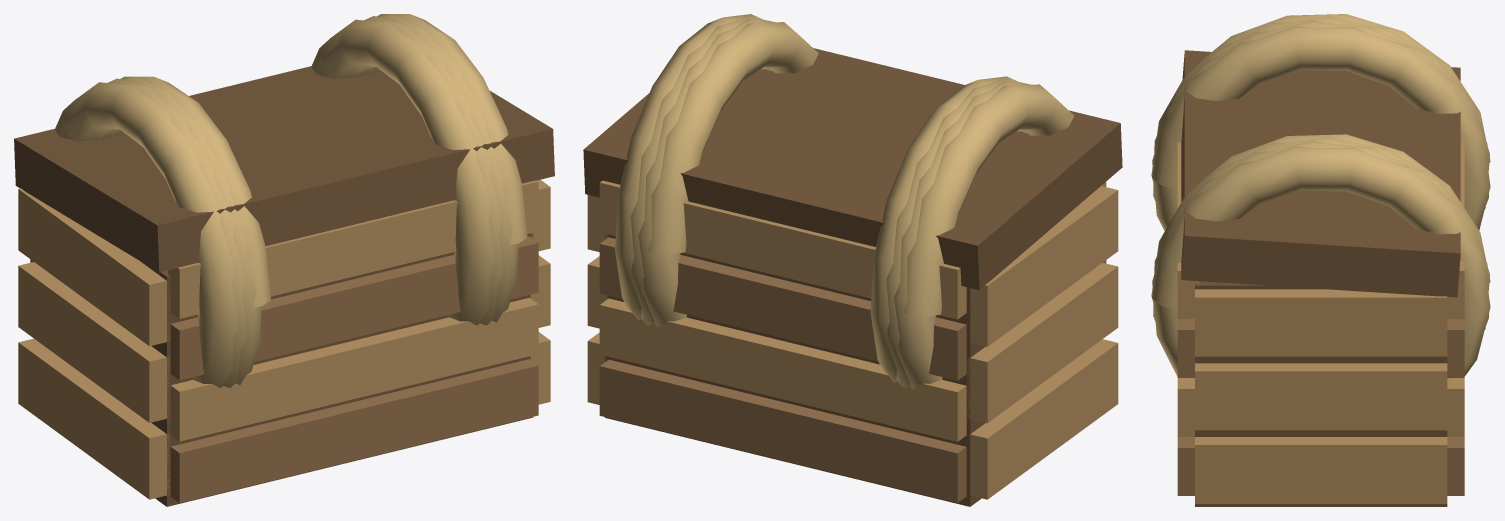
File: storage_box.glb
The picture shows the model from 3 angles, left to right: view 1: azimuth 30°, elevation 25°; view 2: azimuth 150°, elevation 25°; view 3: azimuth 270°, elevation 25°; orthographic projection. The views are drawn at different scales.
Parts seen in each view (by area): view 1: lid, box_rope_left, box_rope_right, front_plank_0, front_plank_1, front_plank_2, front_plank_3, left_plank_1, left_plank_0, left_plank_2, box_core, right_plank_1 (+2 smaller); view 2: lid, box_rope_right, box_rope_left, back_plank_0, back_plank_1, back_plank_2, back_plank_3, left_plank_1, left_plank_0, left_plank_2, box_core, right_plank_1 (+2 smaller); view 3: lid, box_rope_right, box_rope_left, right_plank_1, right_plank_0, right_plank_2, box_core, front_plank_3, back_plank_0, back_plank_1, front_plank_0, front_plank_1 (+3 smaller).
Part boxes in pixels (x1=…): lid: x1=14, y1=66, x2=554, y2=272; box_rope_left: x1=55, y1=76, x2=270, y2=388; box_rope_right: x1=311, y1=14, x2=527, y2=325; front_plank_0: x1=170, y1=359, x2=538, y2=502; front_plank_1: x1=170, y1=297, x2=538, y2=441; front_plank_2: x1=170, y1=236, x2=538, y2=380; front_plank_3: x1=168, y1=180, x2=538, y2=318; left_plank_1: x1=18, y1=262, x2=169, y2=422; left_plank_0: x1=18, y1=338, x2=169, y2=499; left_plank_2: x1=18, y1=188, x2=169, y2=346; box_core: x1=141, y1=233, x2=533, y2=506; right_plank_1: x1=530, y1=255, x2=550, y2=327; lid: x1=583, y1=48, x2=1122, y2=290; box_rope_right: x1=615, y1=14, x2=818, y2=327; box_rope_left: x1=870, y1=76, x2=1073, y2=389; back_plank_0: x1=599, y1=359, x2=966, y2=502; back_plank_1: x1=599, y1=298, x2=966, y2=441; back_plank_2: x1=599, y1=237, x2=966, y2=380; back_plank_3: x1=599, y1=180, x2=966, y2=319; left_plank_1: x1=967, y1=262, x2=1118, y2=423; left_plank_0: x1=968, y1=339, x2=1118, y2=499; left_plank_2: x1=967, y1=186, x2=1118, y2=346; box_core: x1=605, y1=234, x2=985, y2=506; right_plank_1: x1=587, y1=256, x2=607, y2=328; lid: x1=1181, y1=50, x2=1460, y2=297; box_rope_right: x1=1151, y1=134, x2=1490, y2=378; box_rope_left: x1=1151, y1=14, x2=1490, y2=230; right_plank_1: x1=1195, y1=363, x2=1447, y2=430; right_plank_0: x1=1195, y1=437, x2=1447, y2=503; right_plank_2: x1=1195, y1=289, x2=1447, y2=356; box_core: x1=1195, y1=281, x2=1447, y2=506; front_plank_3: x1=1177, y1=142, x2=1199, y2=318; back_plank_0: x1=1447, y1=437, x2=1464, y2=495; back_plank_1: x1=1447, y1=378, x2=1464, y2=436; front_plank_0: x1=1177, y1=437, x2=1194, y2=495; front_plank_1: x1=1177, y1=378, x2=1194, y2=436.
Size of the model in its own units: 1.09 by 0.927 by 0.8336.
